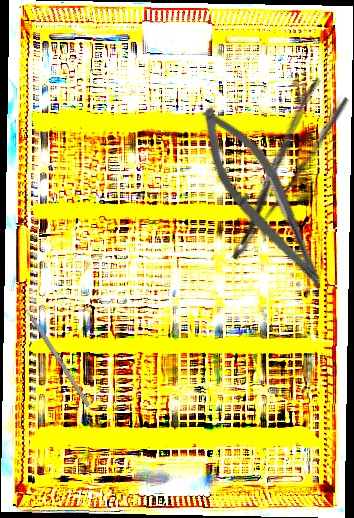Dressing Forceps: (203, 76, 353, 263)
Micro Scissor: (179, 95, 350, 302)
Pusher: (14, 293, 92, 408)
